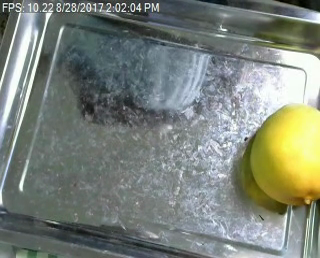Mango: (240, 102, 320, 203)
